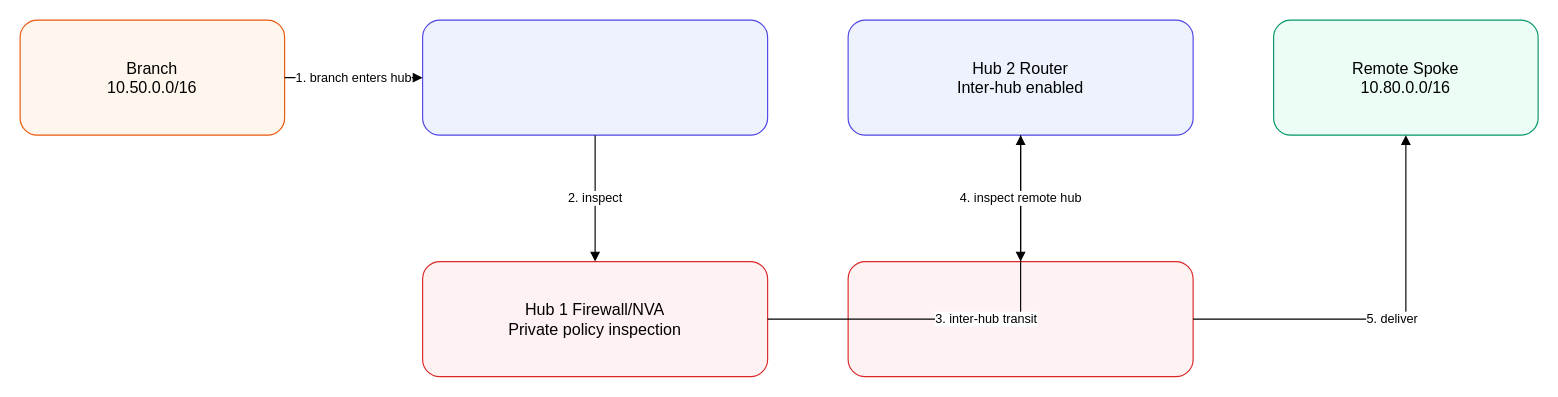
Some shapes in this 1558 by 397 pixel diagram are drawn without their labels. Here are the shapes that lost their labels. From the top down, the centre of each, then its label:
At point 594,77: "Hub 1 Router VPN/ER/SD-WAN routes".
At point 1020,318: "Hub 2 Firewall/NVA Private policy inspection".
